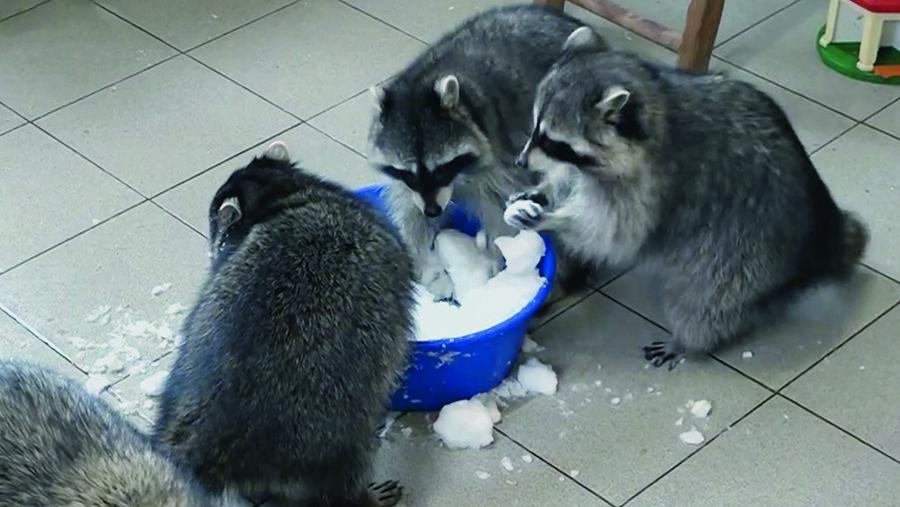raccoon: (509, 26, 871, 370), (157, 141, 405, 507), (367, 6, 595, 219)
